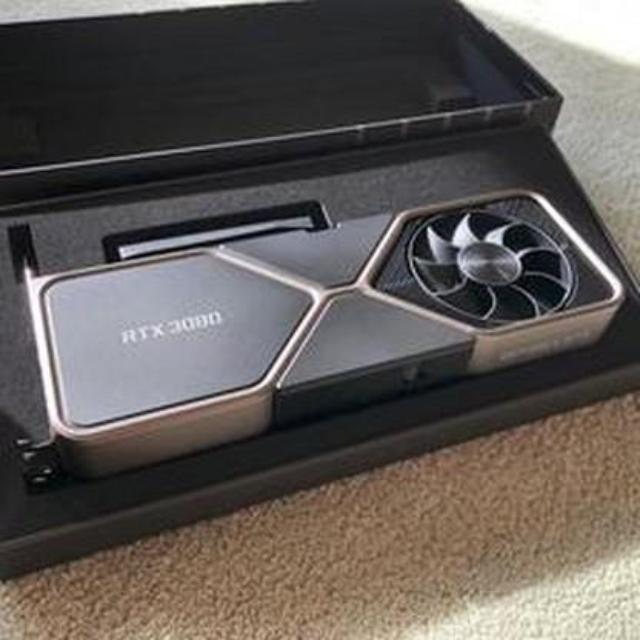GPU: (24, 192, 636, 459)
